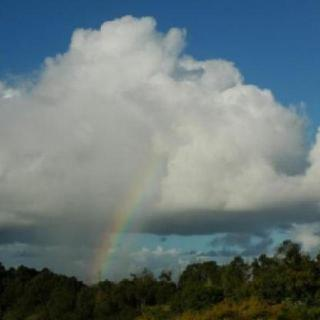Cumulus: (0, 14, 320, 256)
